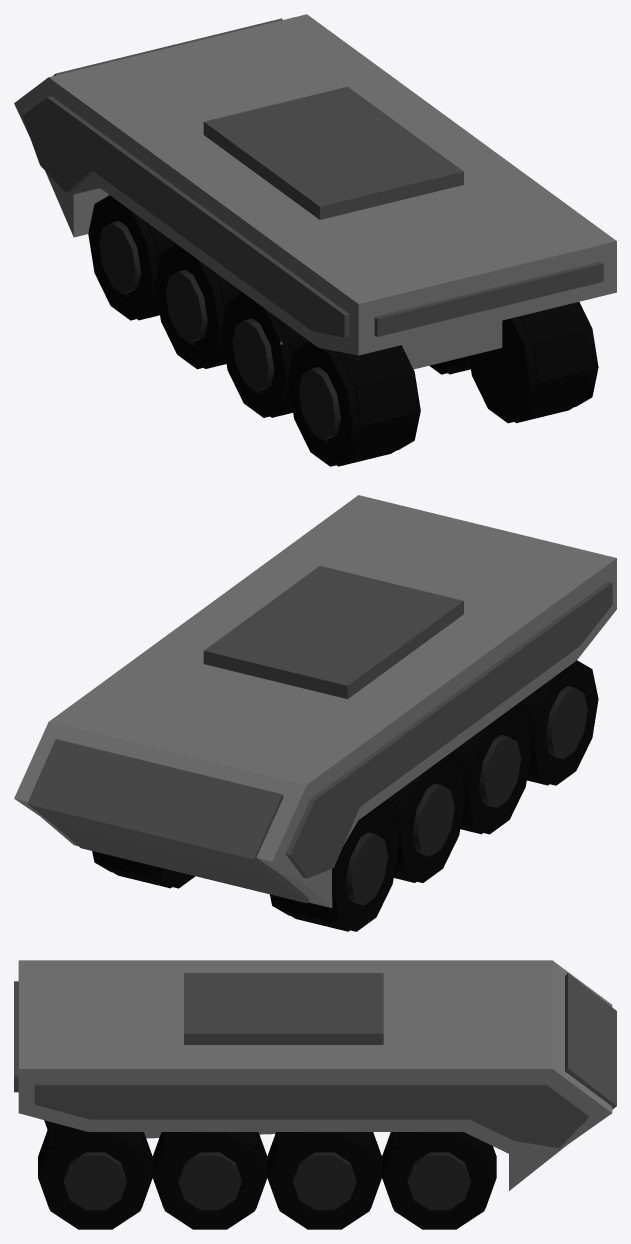
The model's file is Wheels.fbx.
The picture shows the model from 3 angles, top to bottom: view 1: azimuth 30°, elevation 25°; view 2: azimuth 150°, elevation 25°; view 3: azimuth 270°, elevation 25°; orthographic projection. The views are drawn at different scales.
Visible parts, largest first — view 1: Cube.002; view 2: Cube.002; view 3: Cube.002.
Boxes of the visible parts, x1=… form: Cube.002: x1=14, y1=14, x2=616, y2=466; Cube.002: x1=14, y1=495, x2=616, y2=931; Cube.002: x1=14, y1=960, x2=616, y2=1229.
Bounding box in the file's own units: 168 × 123 × 381.
Materials: 1 (1 with a texture image).
